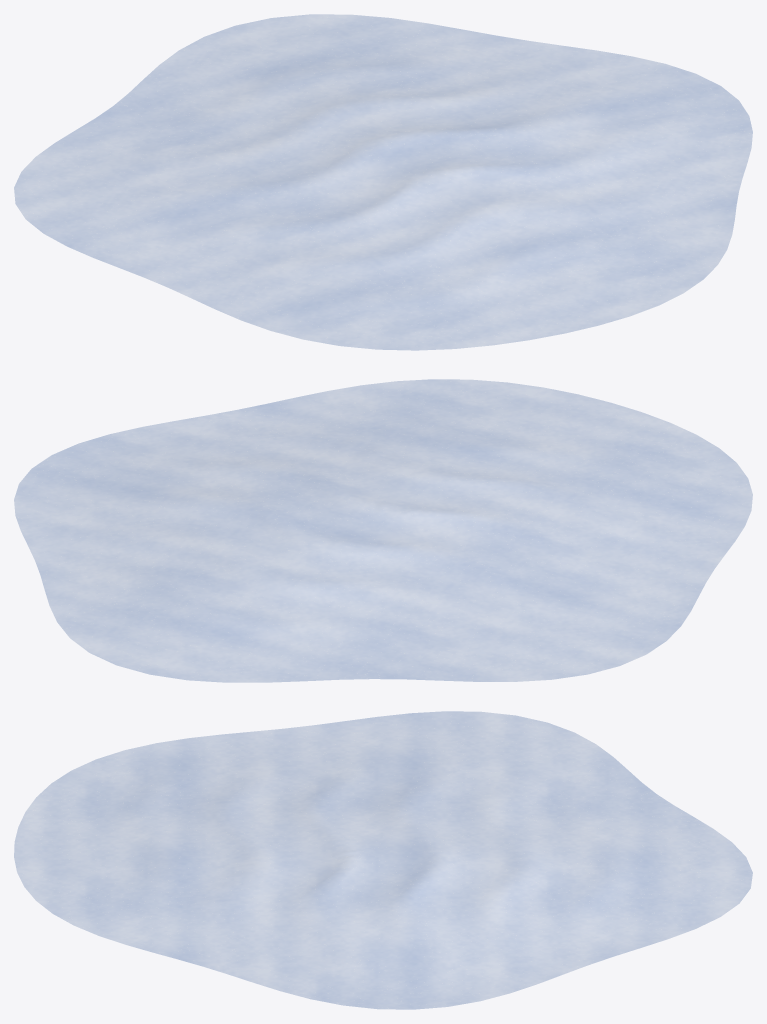
File: SM_Snow_SnowDrift_A.glb
The picture shows the model from 3 angles, top to bottom: view 1: azimuth 30°, elevation 25°; view 2: azimuth 150°, elevation 25°; view 3: azimuth 270°, elevation 25°; orthographic projection. The views are drawn at different scales.
Parts seen in each view (by area): view 1: SM_Snow_SnowDrift_A; view 2: SM_Snow_SnowDrift_A; view 3: SM_Snow_SnowDrift_A.
Part boxes in pixels (box(x1,y1,x2,y2)): SM_Snow_SnowDrift_A: box(14, 14, 752, 350); SM_Snow_SnowDrift_A: box(14, 379, 752, 682); SM_Snow_SnowDrift_A: box(14, 711, 752, 1009).
Bounding box in the file's own units: 5.51 × 0.1119 × 5.77.
1 material, 1 textured.
